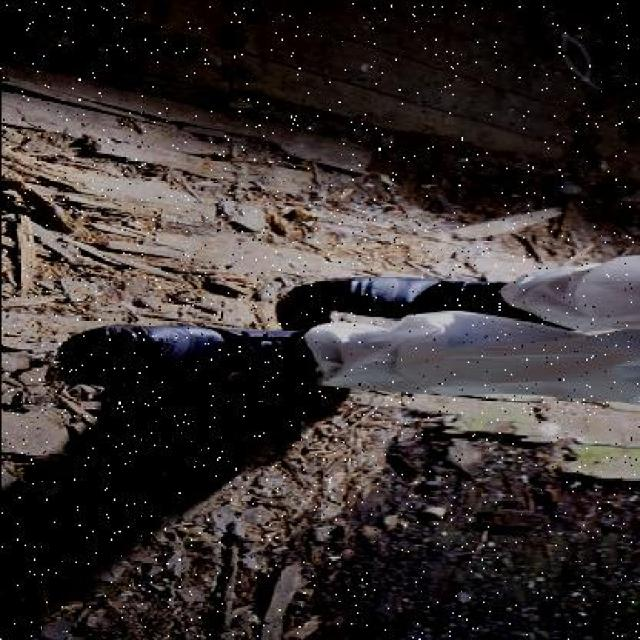shoes: (98, 322, 336, 376), (308, 280, 544, 318)
